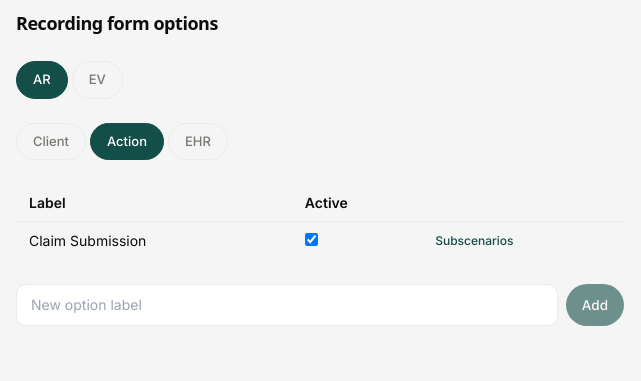
Test: FormOptionsPage › adds a new option
Expected: the text "Claim Submission" is shown, [16,222,293,260]
Type "New Action" into the field with placeholder "New option label" at {"x": 287, "y": 305}, box [16,284,558,326]
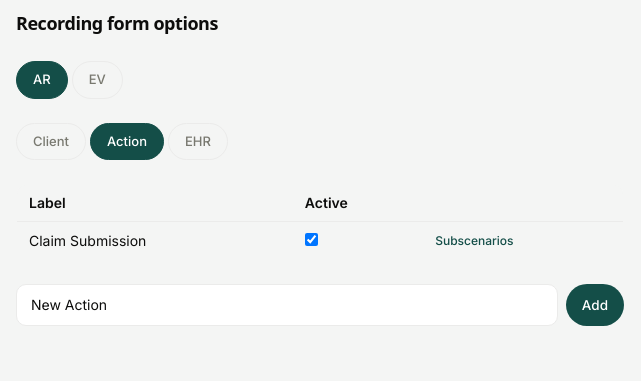
Click the button "Add" at {"x": 595, "y": 305}, box [566,284,624,326]
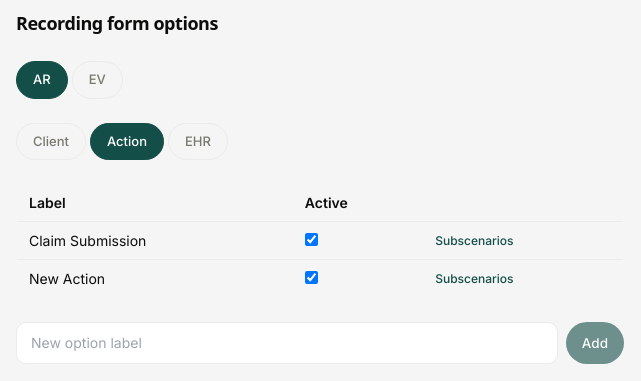
Result: the text "New Action" is shown at [16,260,293,298]
